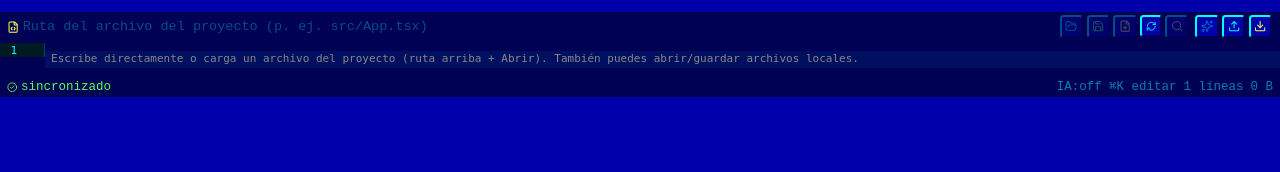
it: EditorView › el botón Guardar está deshabilitado sin cambios pendientes
Type "a.txt" into the field with placeholder "Ruta del archivo del proyecto (p. ej. src/App.tsx)" at (540, 27), box [23,18,1057,37]
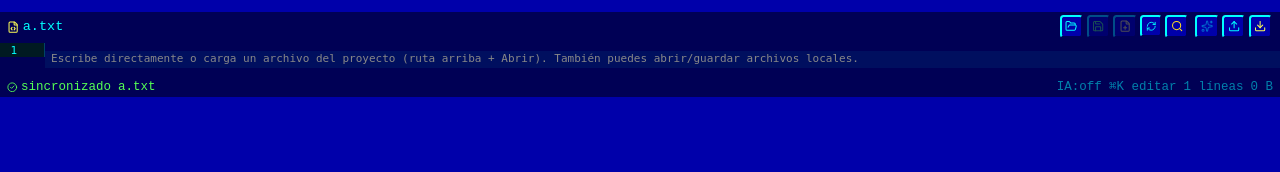
Click the button titled "Abrir del proyecto (Enter)" at (1071, 26), box [1060,14,1083,38]
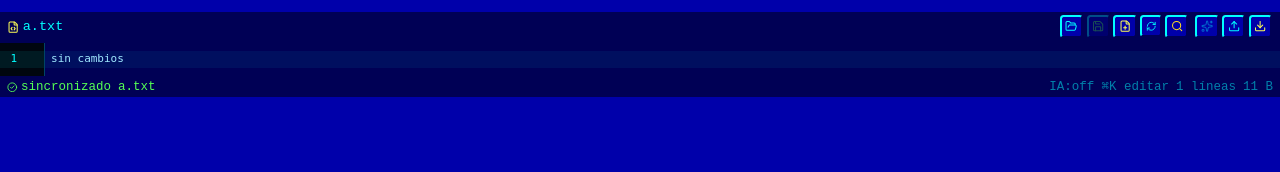
Expected: the button titled "Guardar en el proyecto (Ctrl+S)" is disabled, [1086,14,1110,38]
Result: the text box labelled "sin cambios" is shown at [45,51,1279,68]
